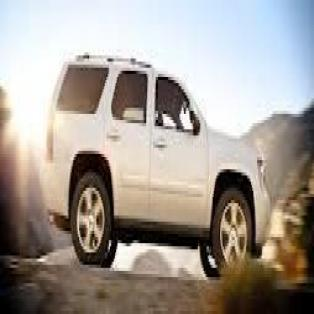Auto: (41, 49, 274, 286)
